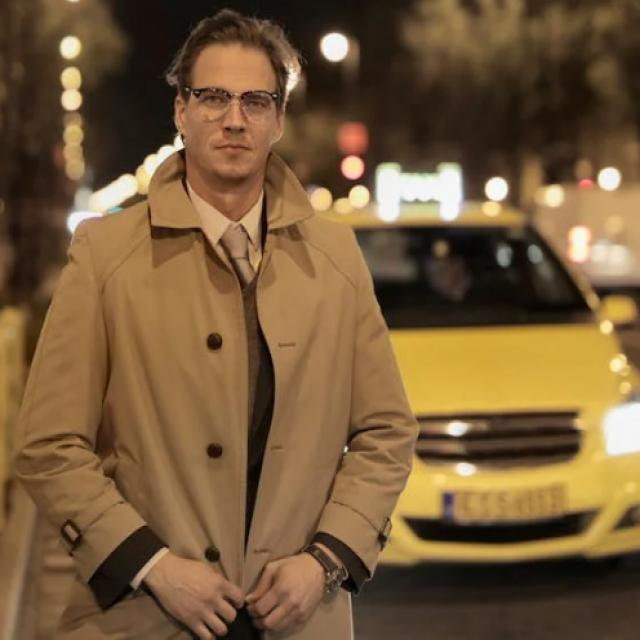Watch: (298, 533, 354, 603)
